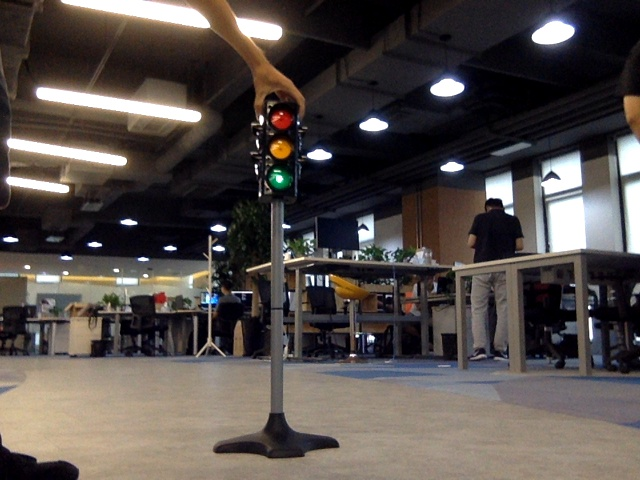green: (266, 109, 292, 189)
